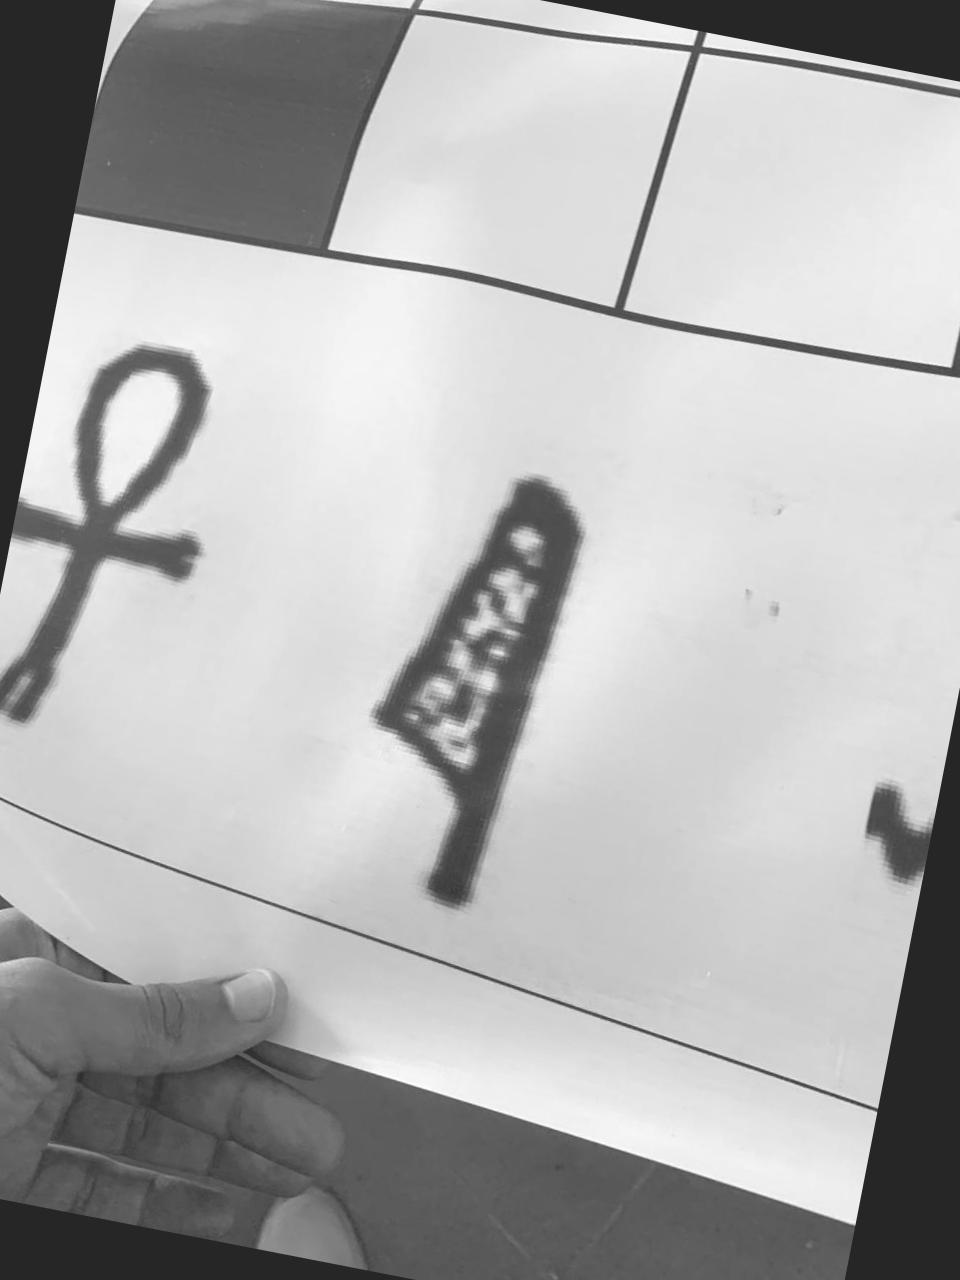Ankh: (0, 326, 226, 734)
Reed: (364, 462, 594, 912)
